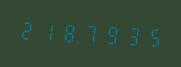eight: (59, 18, 79, 46)
five: (143, 22, 163, 50)
nine: (101, 20, 121, 48)
one: (38, 17, 58, 45)
seven: (80, 19, 100, 47)
three: (122, 21, 142, 49)
two: (17, 16, 37, 44)
